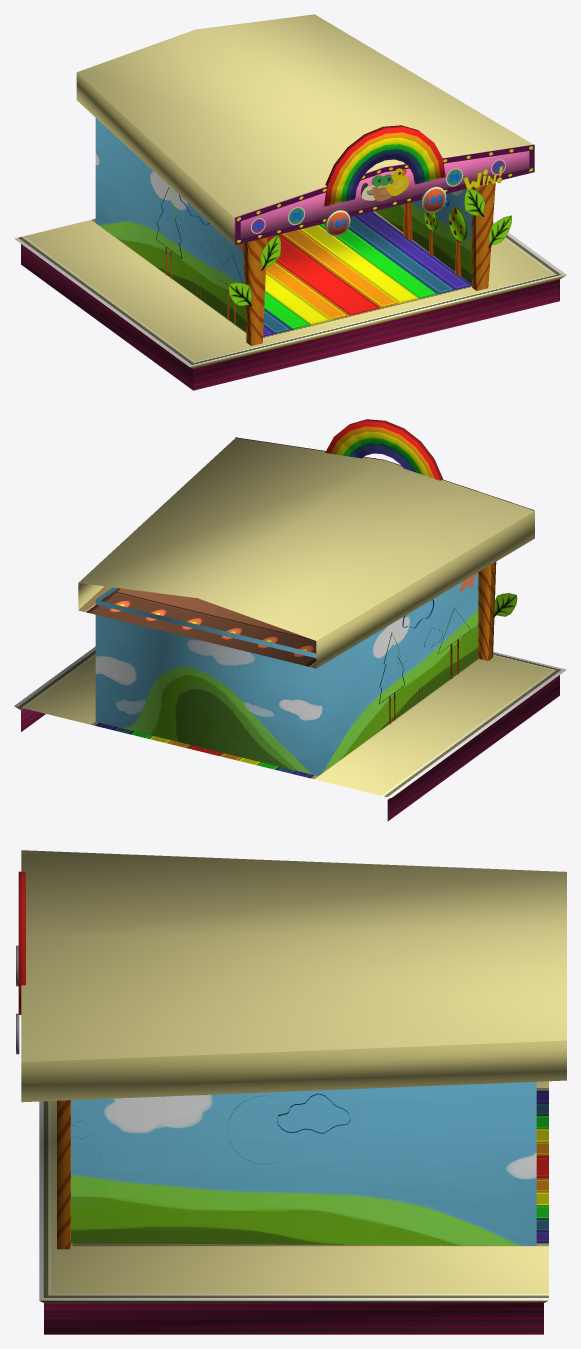
The model's file is changjing.FBX.
3 views of the same model, one above another, from view 1: azimuth 30°, elevation 25°; view 2: azimuth 150°, elevation 25°; view 3: azimuth 270°, elevation 25° (orthographic). The views are drawn at different scales.
Parts seen in each view (by area): view 1: changjing; view 2: changjing; view 3: changjing.
Part boxes in pixels (x1=…): changjing: x1=14, y1=14, x2=566, y2=390; changjing: x1=14, y1=419, x2=566, y2=821; changjing: x1=16, y1=850, x2=566, y2=1334.
Size of the model in its own units: 1.8 by 1.02 by 1.57.
Materials: 1 (1 with a texture image).
